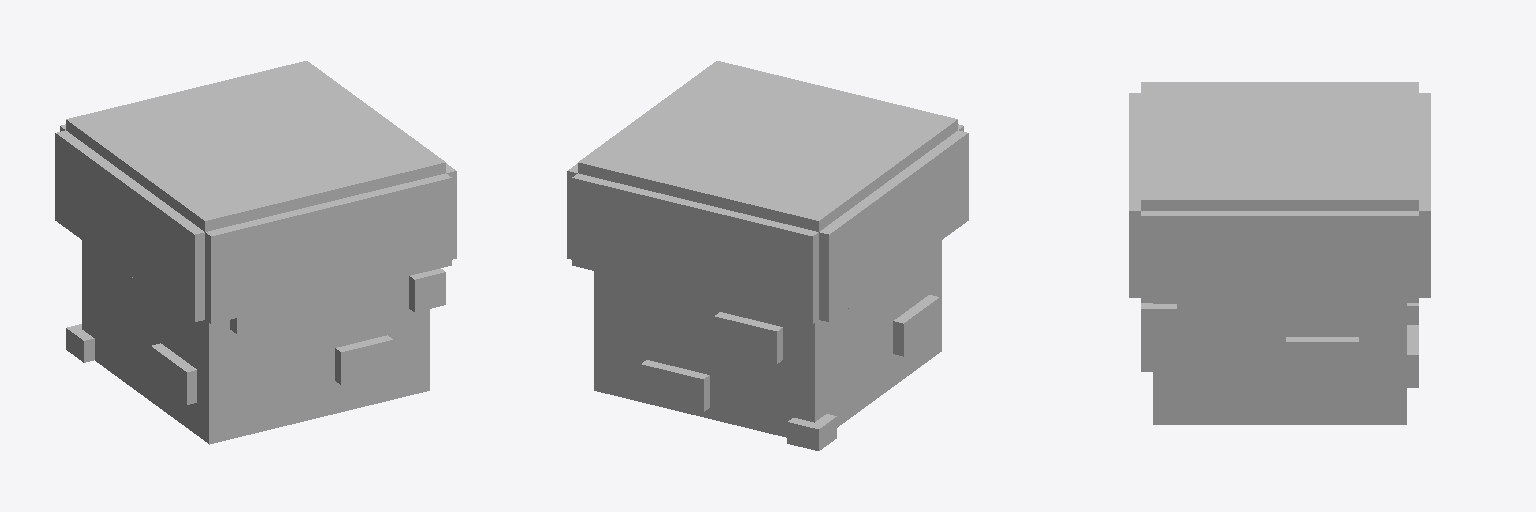
The model's file is water.obj.
3 views of the same model, side by side, from view 1: azimuth 30°, elevation 25°; view 2: azimuth 150°, elevation 25°; view 3: azimuth 270°, elevation 25° (orthographic).
Visible parts, largest first — view 1: object 1; view 2: object 1; view 3: object 1.
Boxes of the visible parts, x1=… form: object 1: x1=55, y1=61, x2=456, y2=444; object 1: x1=567, y1=61, x2=968, y2=450; object 1: x1=1129, y1=82, x2=1430, y2=424.
Bounding box in the file's own units: 2.5 × 2.1 × 2.5.